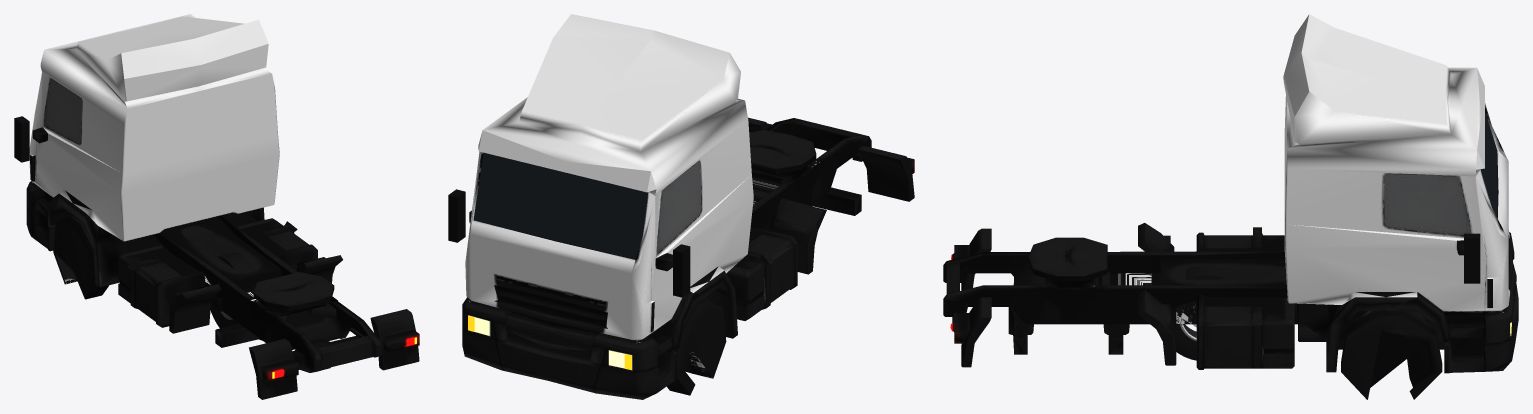
File: cab.glb
3 renders of one model, left to right at view 1: azimuth 30°, elevation 25°; view 2: azimuth 150°, elevation 25°; view 3: azimuth 270°, elevation 25°, orthographic. The views are drawn at different scales.
Parts seen in each view (by area): view 1: body, wheel; view 2: body; view 3: body, wheel.
Part boxes in pixels (box(x1,y1,x2,y2)): body: box(14, 14, 419, 399); wheel: box(210, 252, 251, 328); body: box(448, 14, 914, 399); body: box(943, 14, 1518, 399); wheel: box(1175, 265, 1226, 360).
Size of the model in its own units: 2.96 by 3.66 by 6.29.
14 materials, 2 textured.
